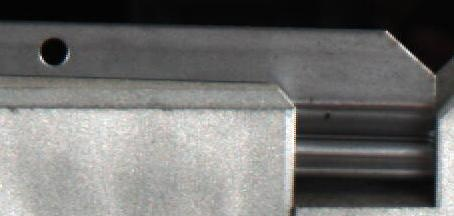cut: (310, 26, 444, 201)
holes: (37, 36, 71, 67)
